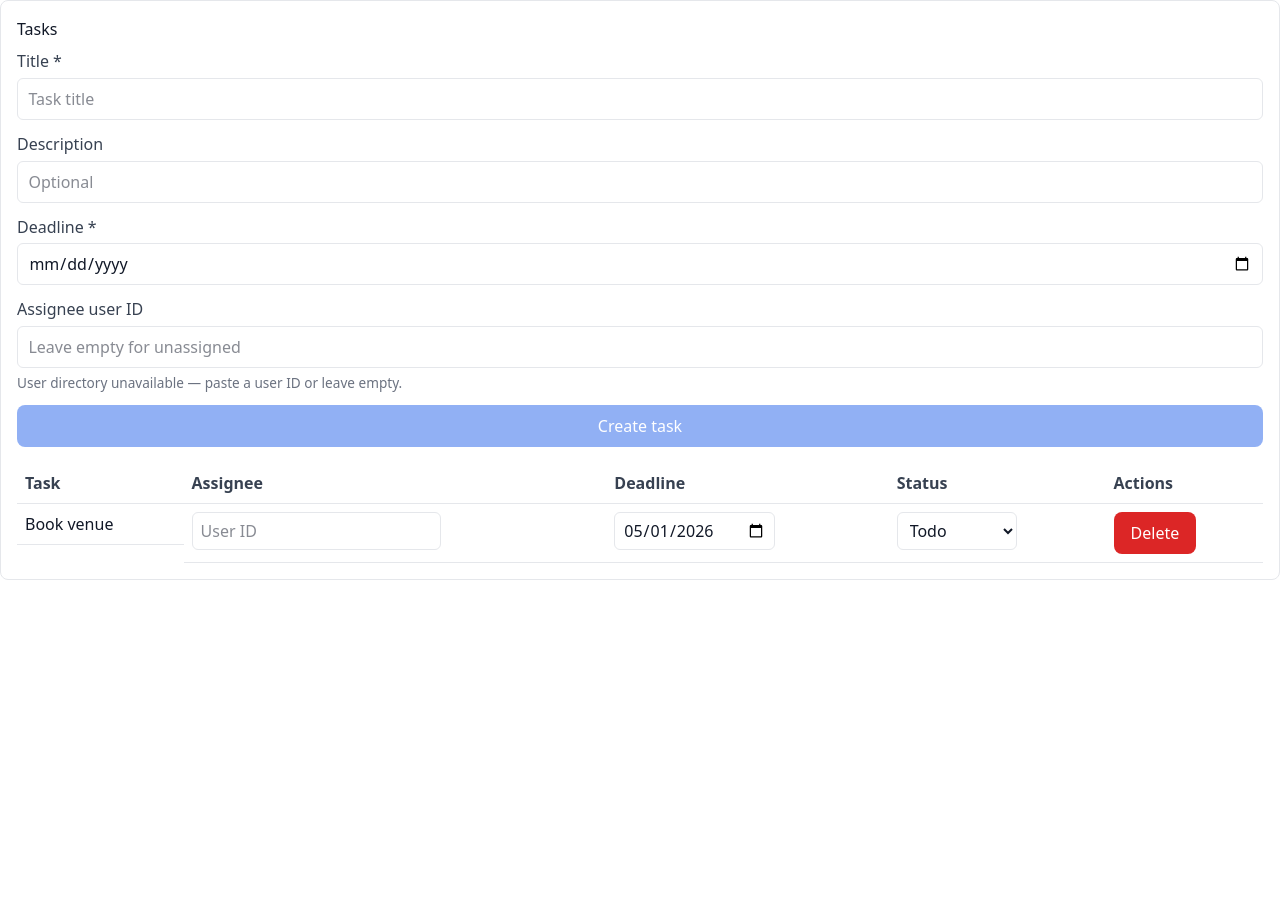
Test case: TasksSection › updates task status through the status select
This screenshot has width=1280, height=900.
Select "InProgress" in the dropdown with test id "task-status-t1" at (957, 531), box [897,512,1017,550]
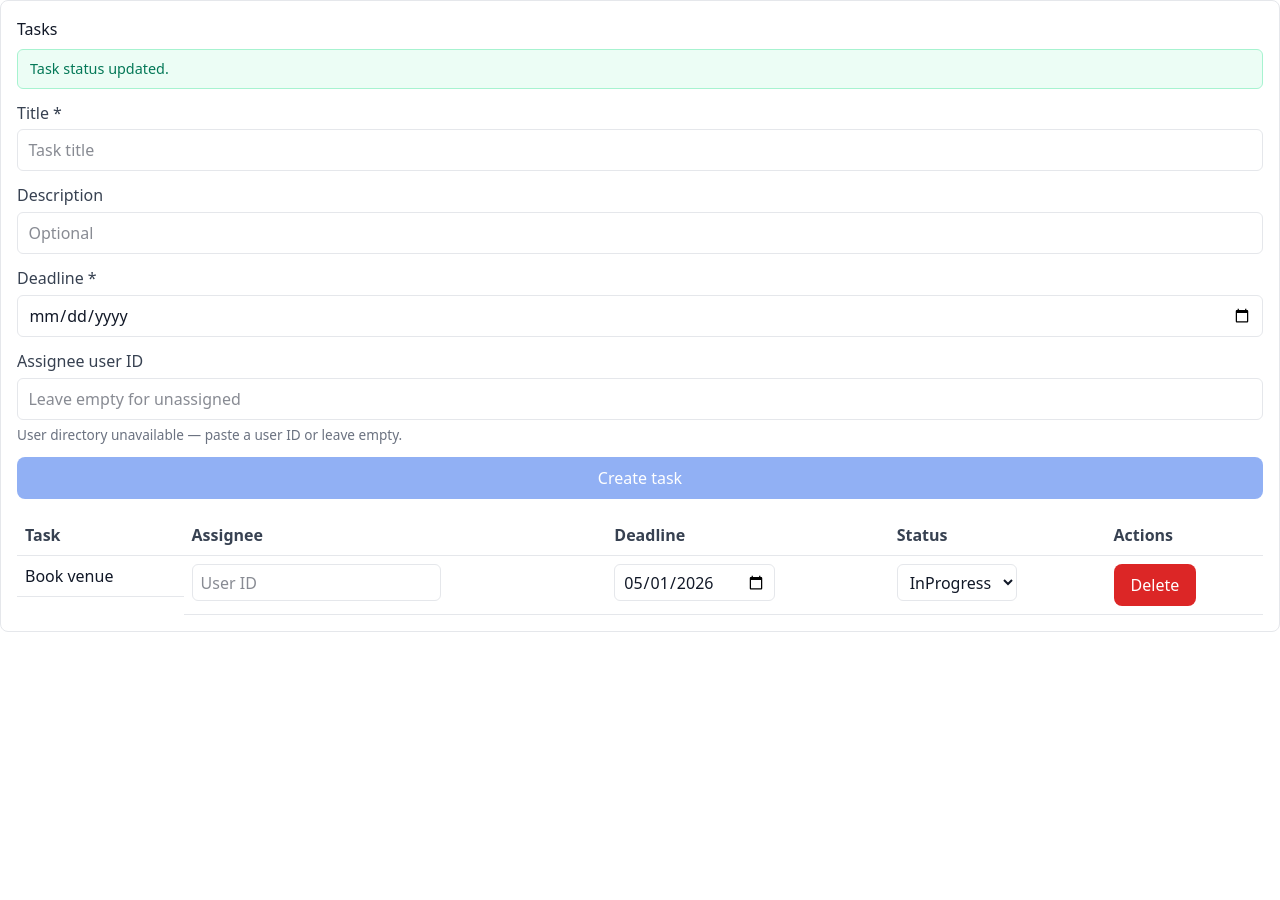
Result: the message with test id "tasks-notice" shows "status updated" at [30,59,169,78]
